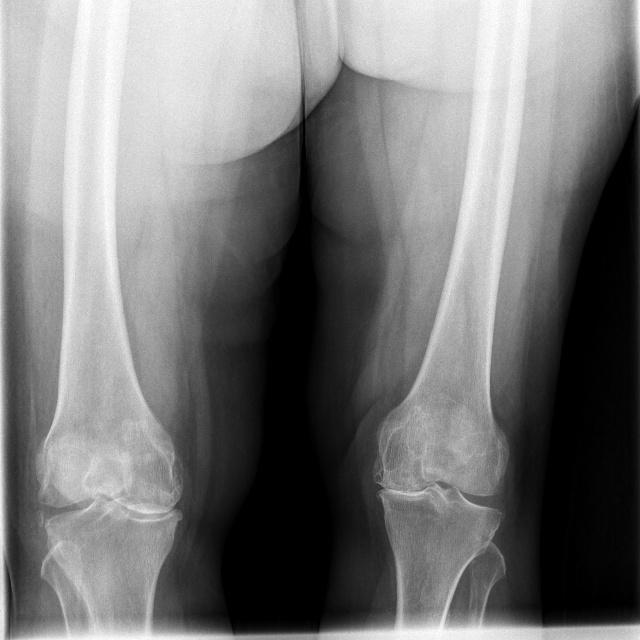Knee: (32, 432, 183, 578), (369, 429, 511, 561)
